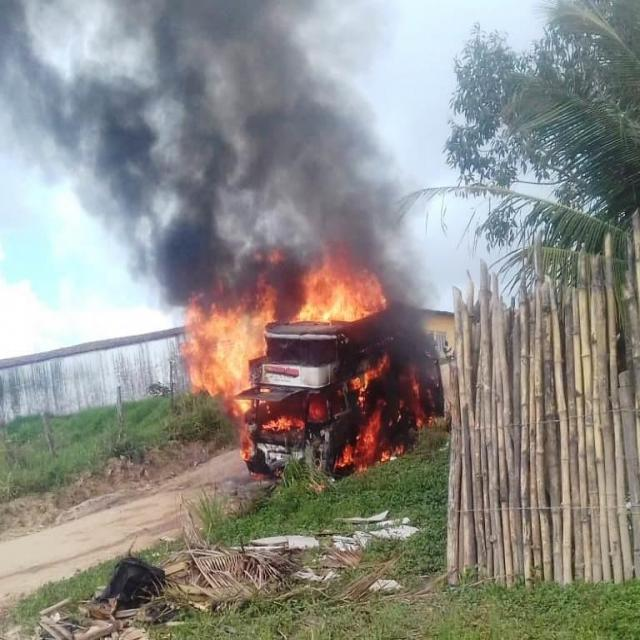fire: (180, 264, 392, 435)
